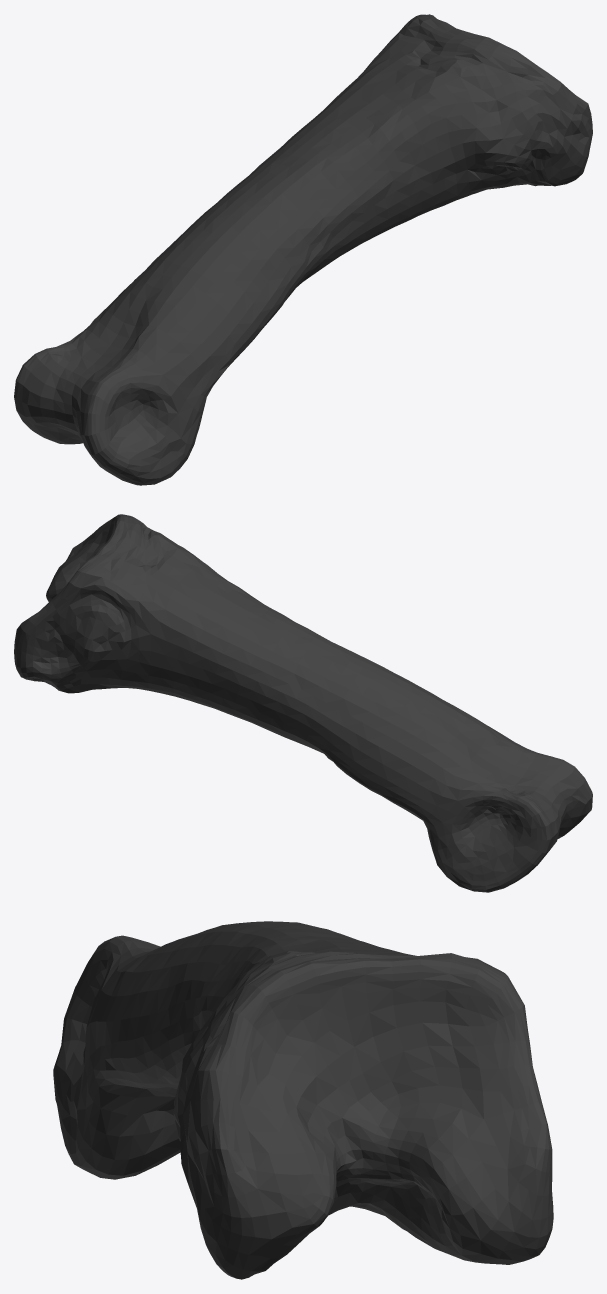
Rendered from proximal_phalanx_IV_L.glb.
3 renders of one model, top to bottom at view 1: azimuth 30°, elevation 25°; view 2: azimuth 150°, elevation 25°; view 3: azimuth 270°, elevation 25°, orthographic. The views are drawn at different scales.
Visible parts, largest first — view 1: proximal_phalanx_IV_L; view 2: proximal_phalanx_IV_L; view 3: proximal_phalanx_IV_L.
Part boxes in pixels (x1=…): proximal_phalanx_IV_L: x1=14, y1=14, x2=592, y2=485; proximal_phalanx_IV_L: x1=14, y1=514, x2=592, y2=892; proximal_phalanx_IV_L: x1=53, y1=921, x2=553, y2=1279.
Size of the model in its own units: 0.0455 by 0.0237 by 0.0195.
1 material, 1 textured.
